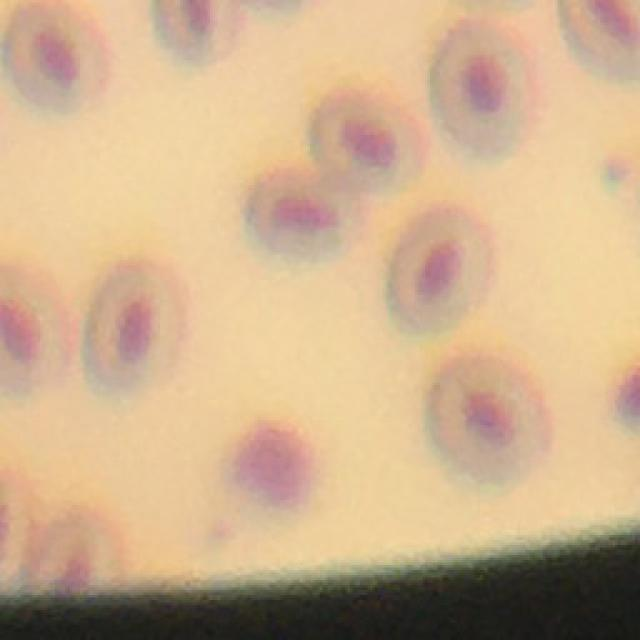RBC: (422, 350, 557, 492), (81, 257, 192, 410), (429, 15, 538, 162), (382, 200, 493, 344), (310, 87, 432, 199), (3, 0, 116, 116), (243, 166, 368, 266), (0, 263, 77, 408), (21, 504, 127, 588), (555, 0, 640, 89), (152, 0, 246, 69)
WBC: (236, 418, 322, 514)
